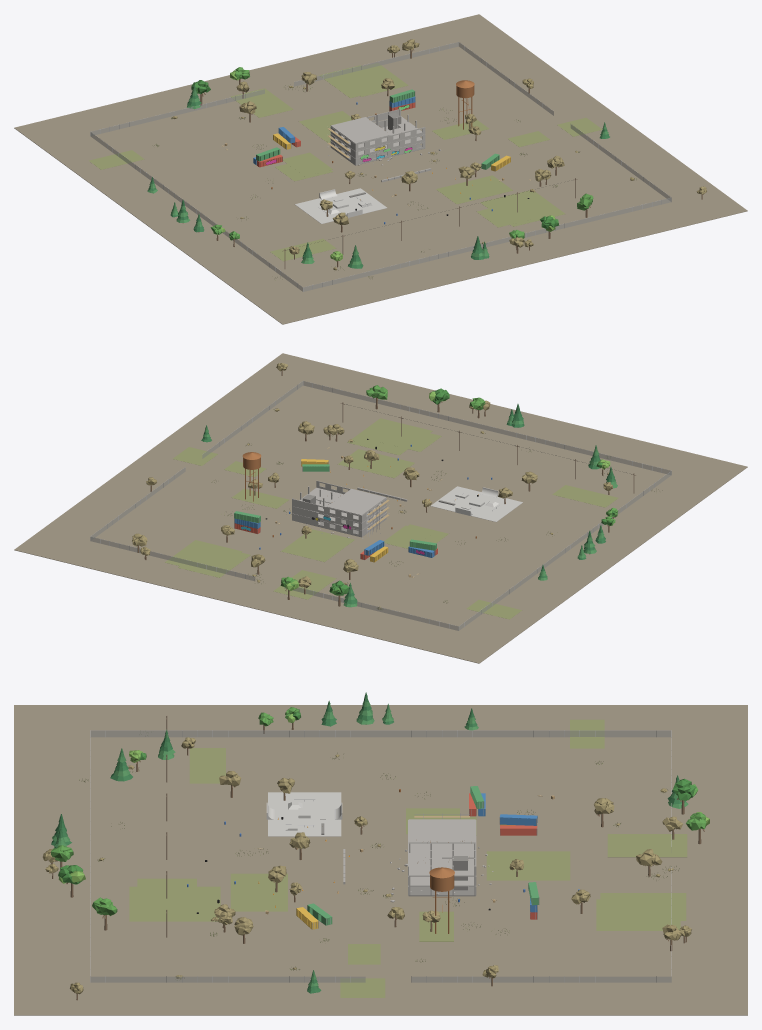
The model's file is bando.glb.
The picture shows the model from 3 angles, top to bottom: view 1: azimuth 30°, elevation 25°; view 2: azimuth 150°, elevation 25°; view 3: azimuth 270°, elevation 25°; orthographic projection. The views are drawn at different scales.
Parts seen in each view (by area): view 1: map; view 2: map; view 3: map.
Boxes of the visible parts, left/top/right/bottom form: map: left=14, top=14, right=747, bottom=324; map: left=14, top=353, right=747, bottom=663; map: left=14, top=692, right=747, bottom=1015.
Size of the model in its own units: 240 by 23 by 240.
